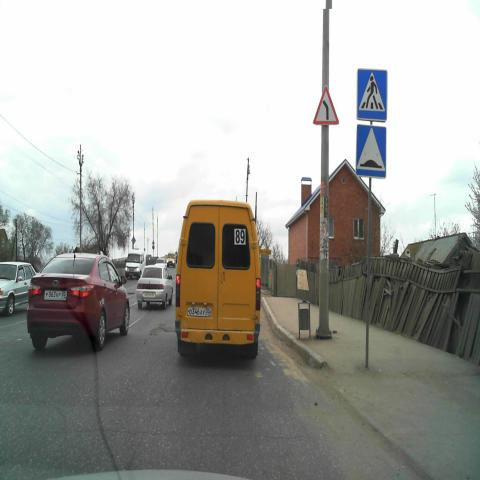1_11_1: (312, 86, 339, 126)
